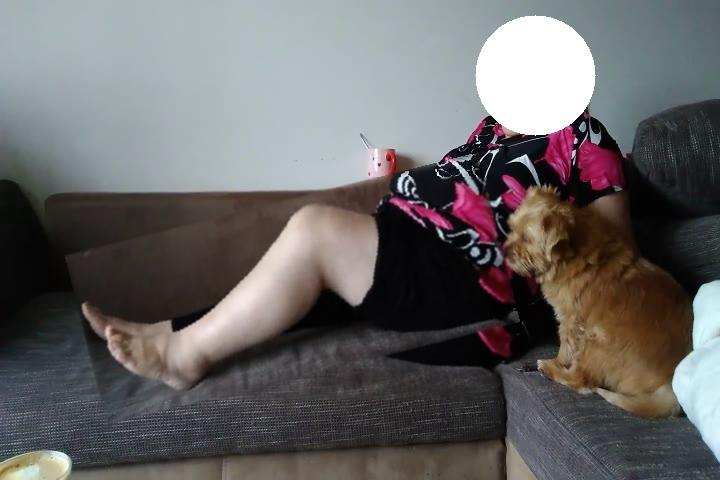lower_body: (74, 178, 514, 401)
